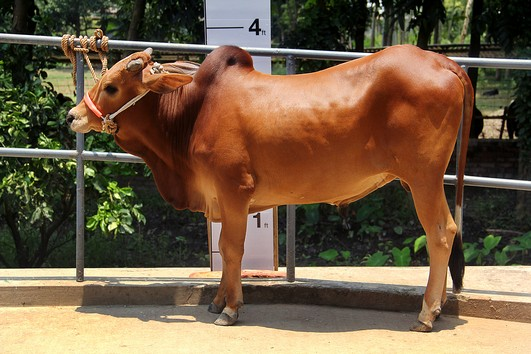cow: (61, 37, 479, 332)
